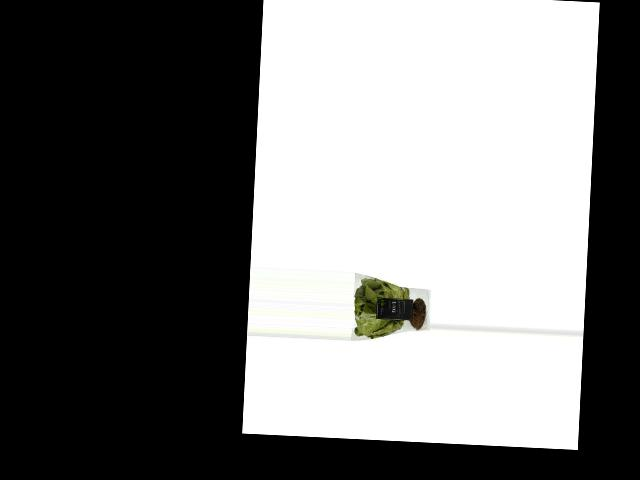lettuce: (351, 274, 432, 343)
